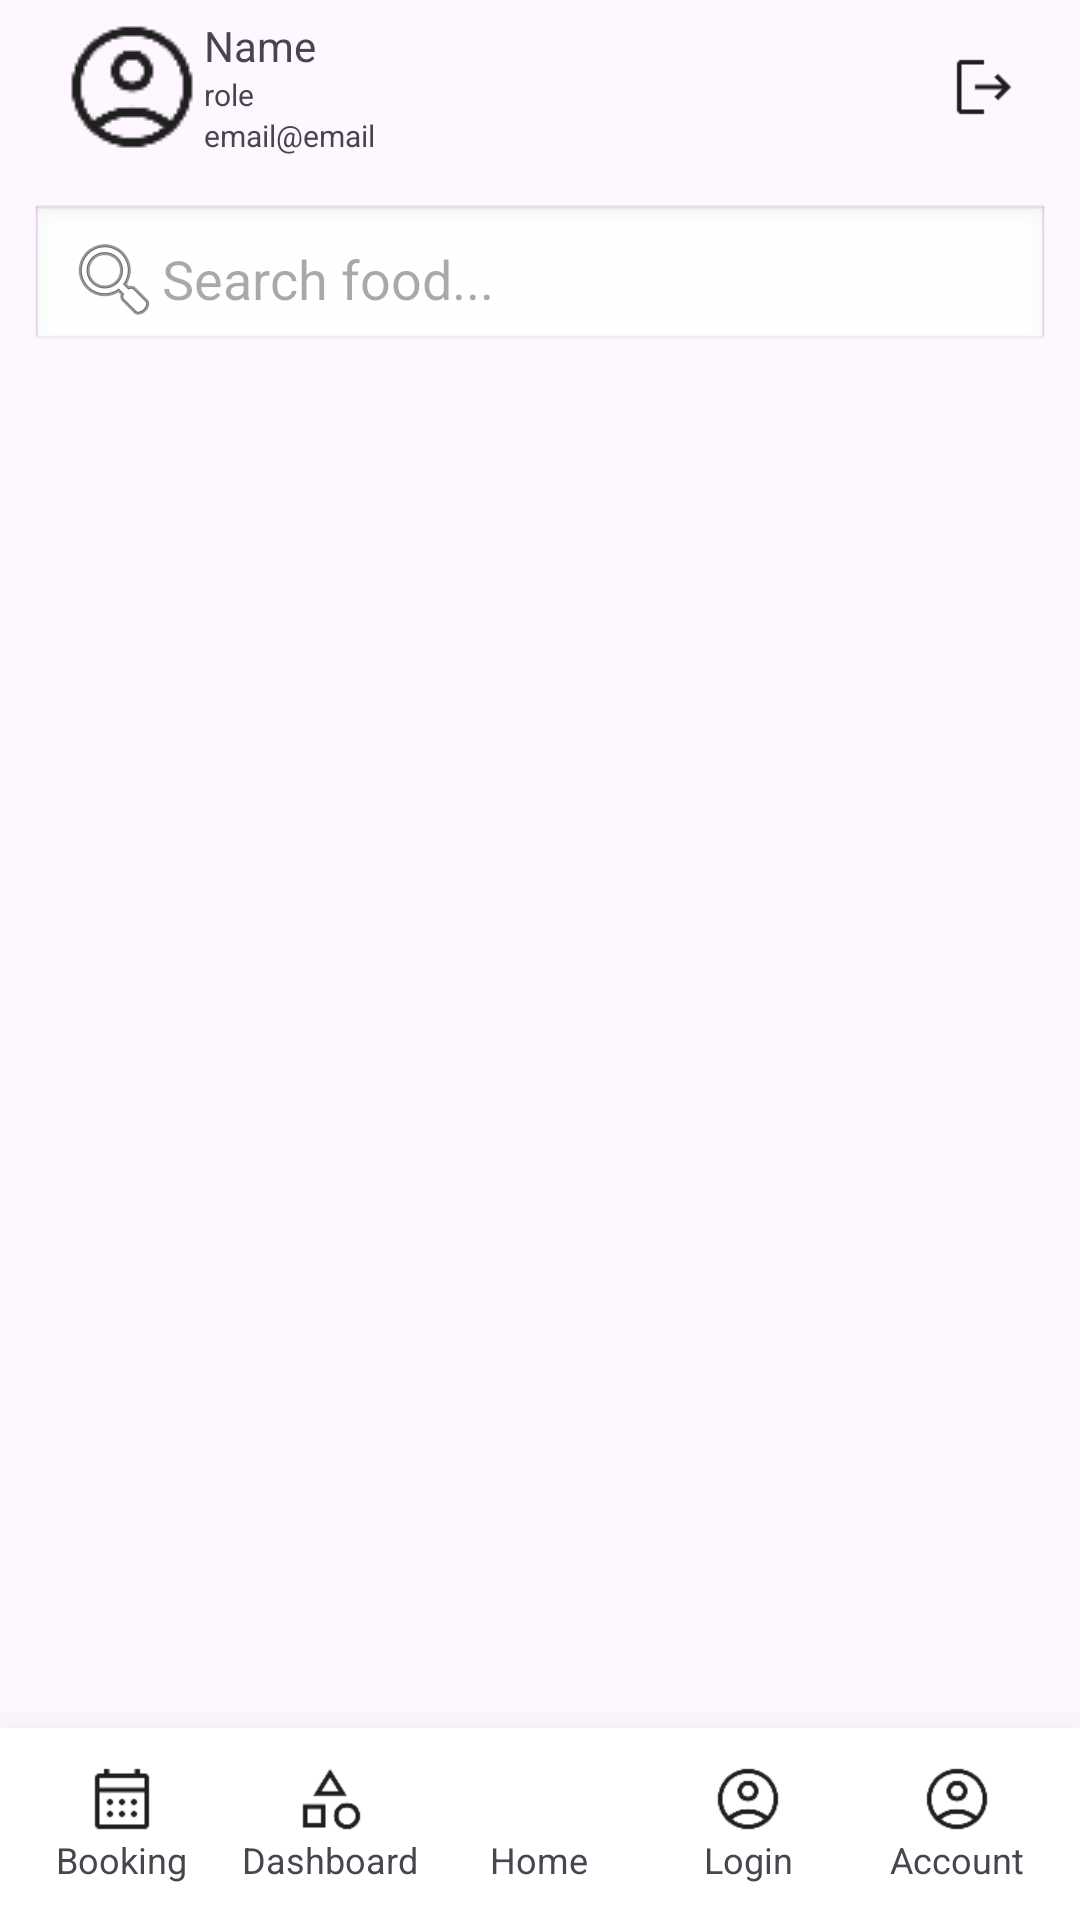

Screen size 1080px×1920px. Icon name, then its box in pixels as (x1, y1, x2, y2):
calendar: (94, 1768, 150, 1830)
category: (302, 1769, 361, 1830)
